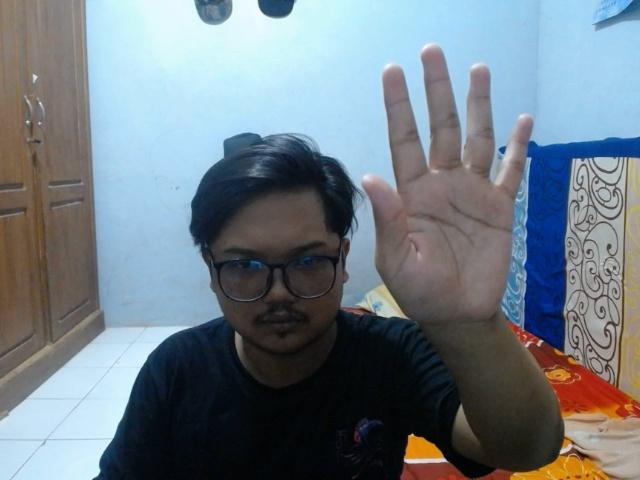Release: (356, 40, 536, 326)
